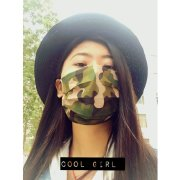face_mask: (61, 39, 120, 122)
